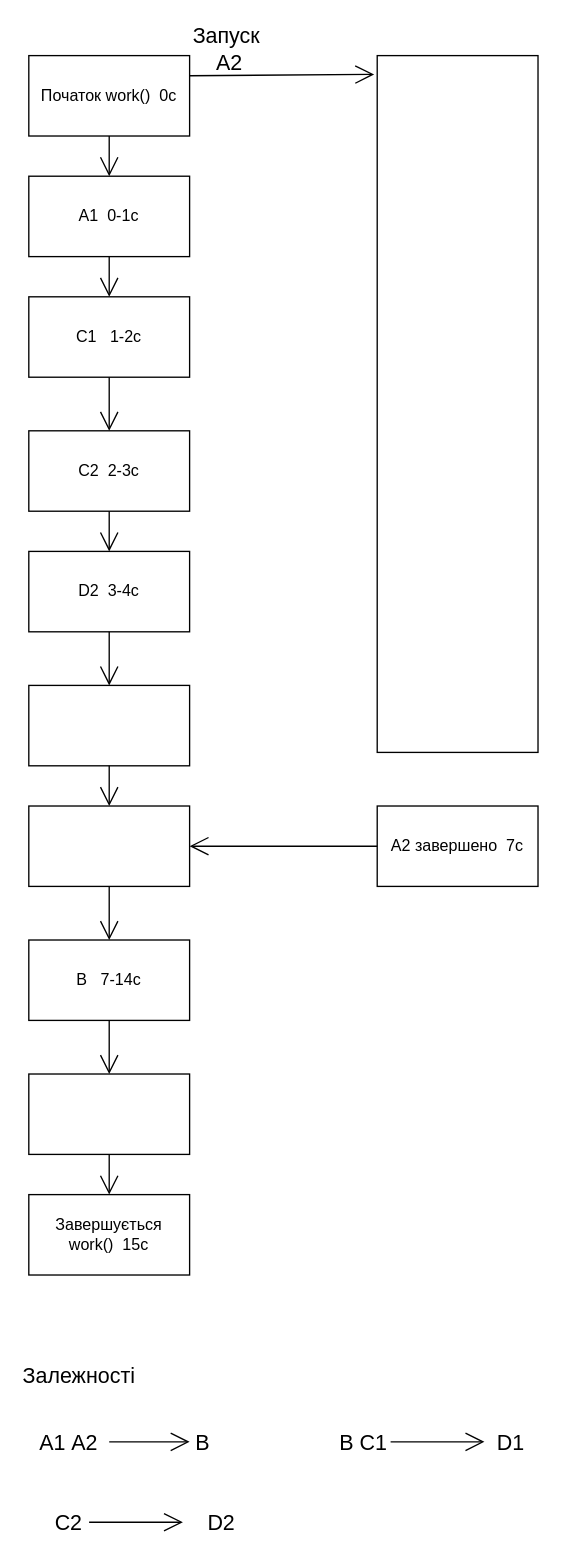
Some shapes in this 574 by 1565 pixel diagram are drawn without their labels. The shapes that lost their labels are listed below. From the top down, each one's centre as x and y in pixels, then its label:
the point at 457,403: Додатковий потік A2 0-7c
the point at 108,725: a2.get() 4-7c
the point at 108,845: Синхронізація 7с
the point at 108,1113: D1 14-15c
